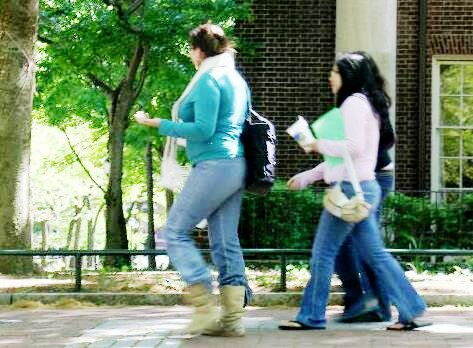person: (137, 24, 270, 328), (294, 54, 427, 332)
